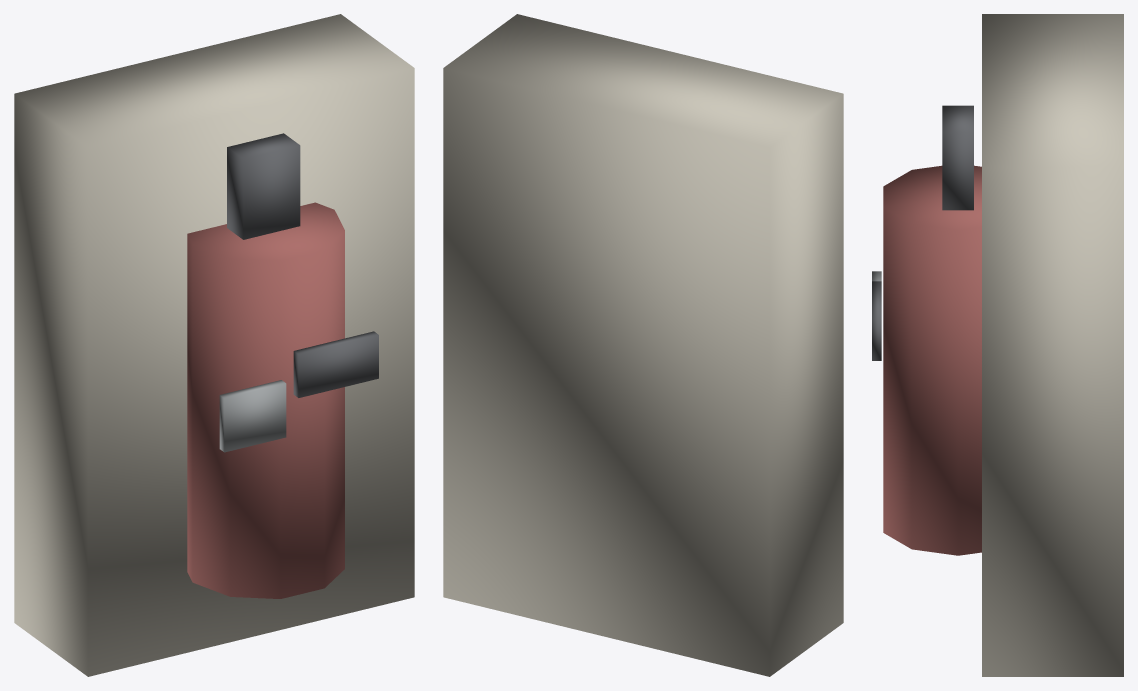
File: extinguisher_cabinet__weathered.glb
The picture shows the model from 3 angles, left to right: view 1: azimuth 30°, elevation 25°; view 2: azimuth 150°, elevation 25°; view 3: azimuth 270°, elevation 25°; orthographic projection. The views are drawn at different scales.
Visible parts, largest first — view 1: world; view 2: world; view 3: world.
Boxes of the visible parts, box(x1,y1,x2,y2) form: world: box(14, 14, 414, 676); world: box(443, 14, 843, 676); world: box(872, 14, 1123, 676).
Bounding box in the file's own units: 0.46 × 0.7128 × 0.3191.
